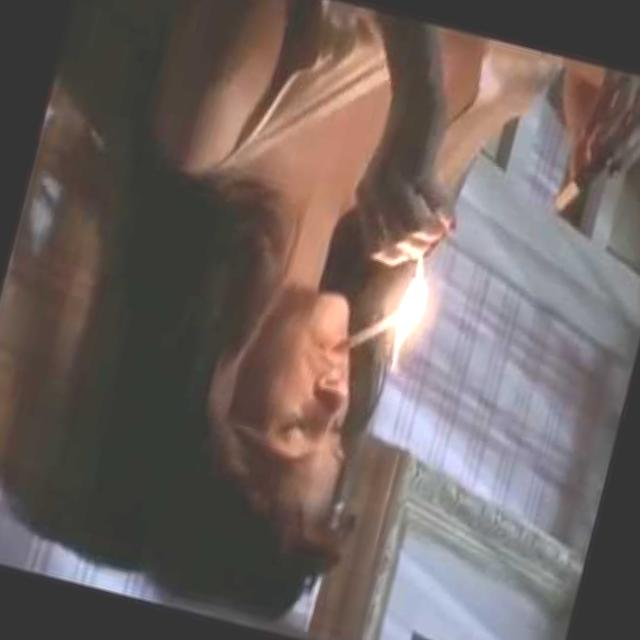cigarette: (336, 296, 399, 365)
